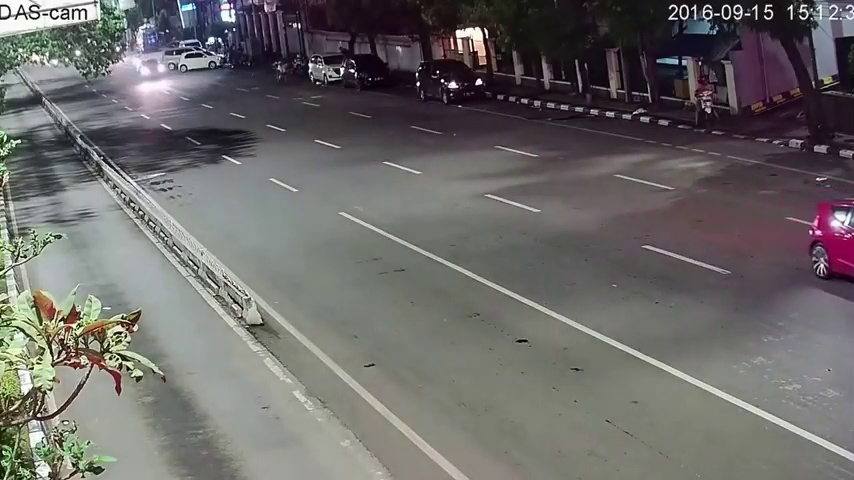car: (812, 200, 854, 286), (417, 59, 483, 105), (343, 51, 391, 90), (309, 51, 344, 88), (180, 50, 226, 71), (141, 59, 168, 80)
motorbike: (696, 81, 715, 123)
